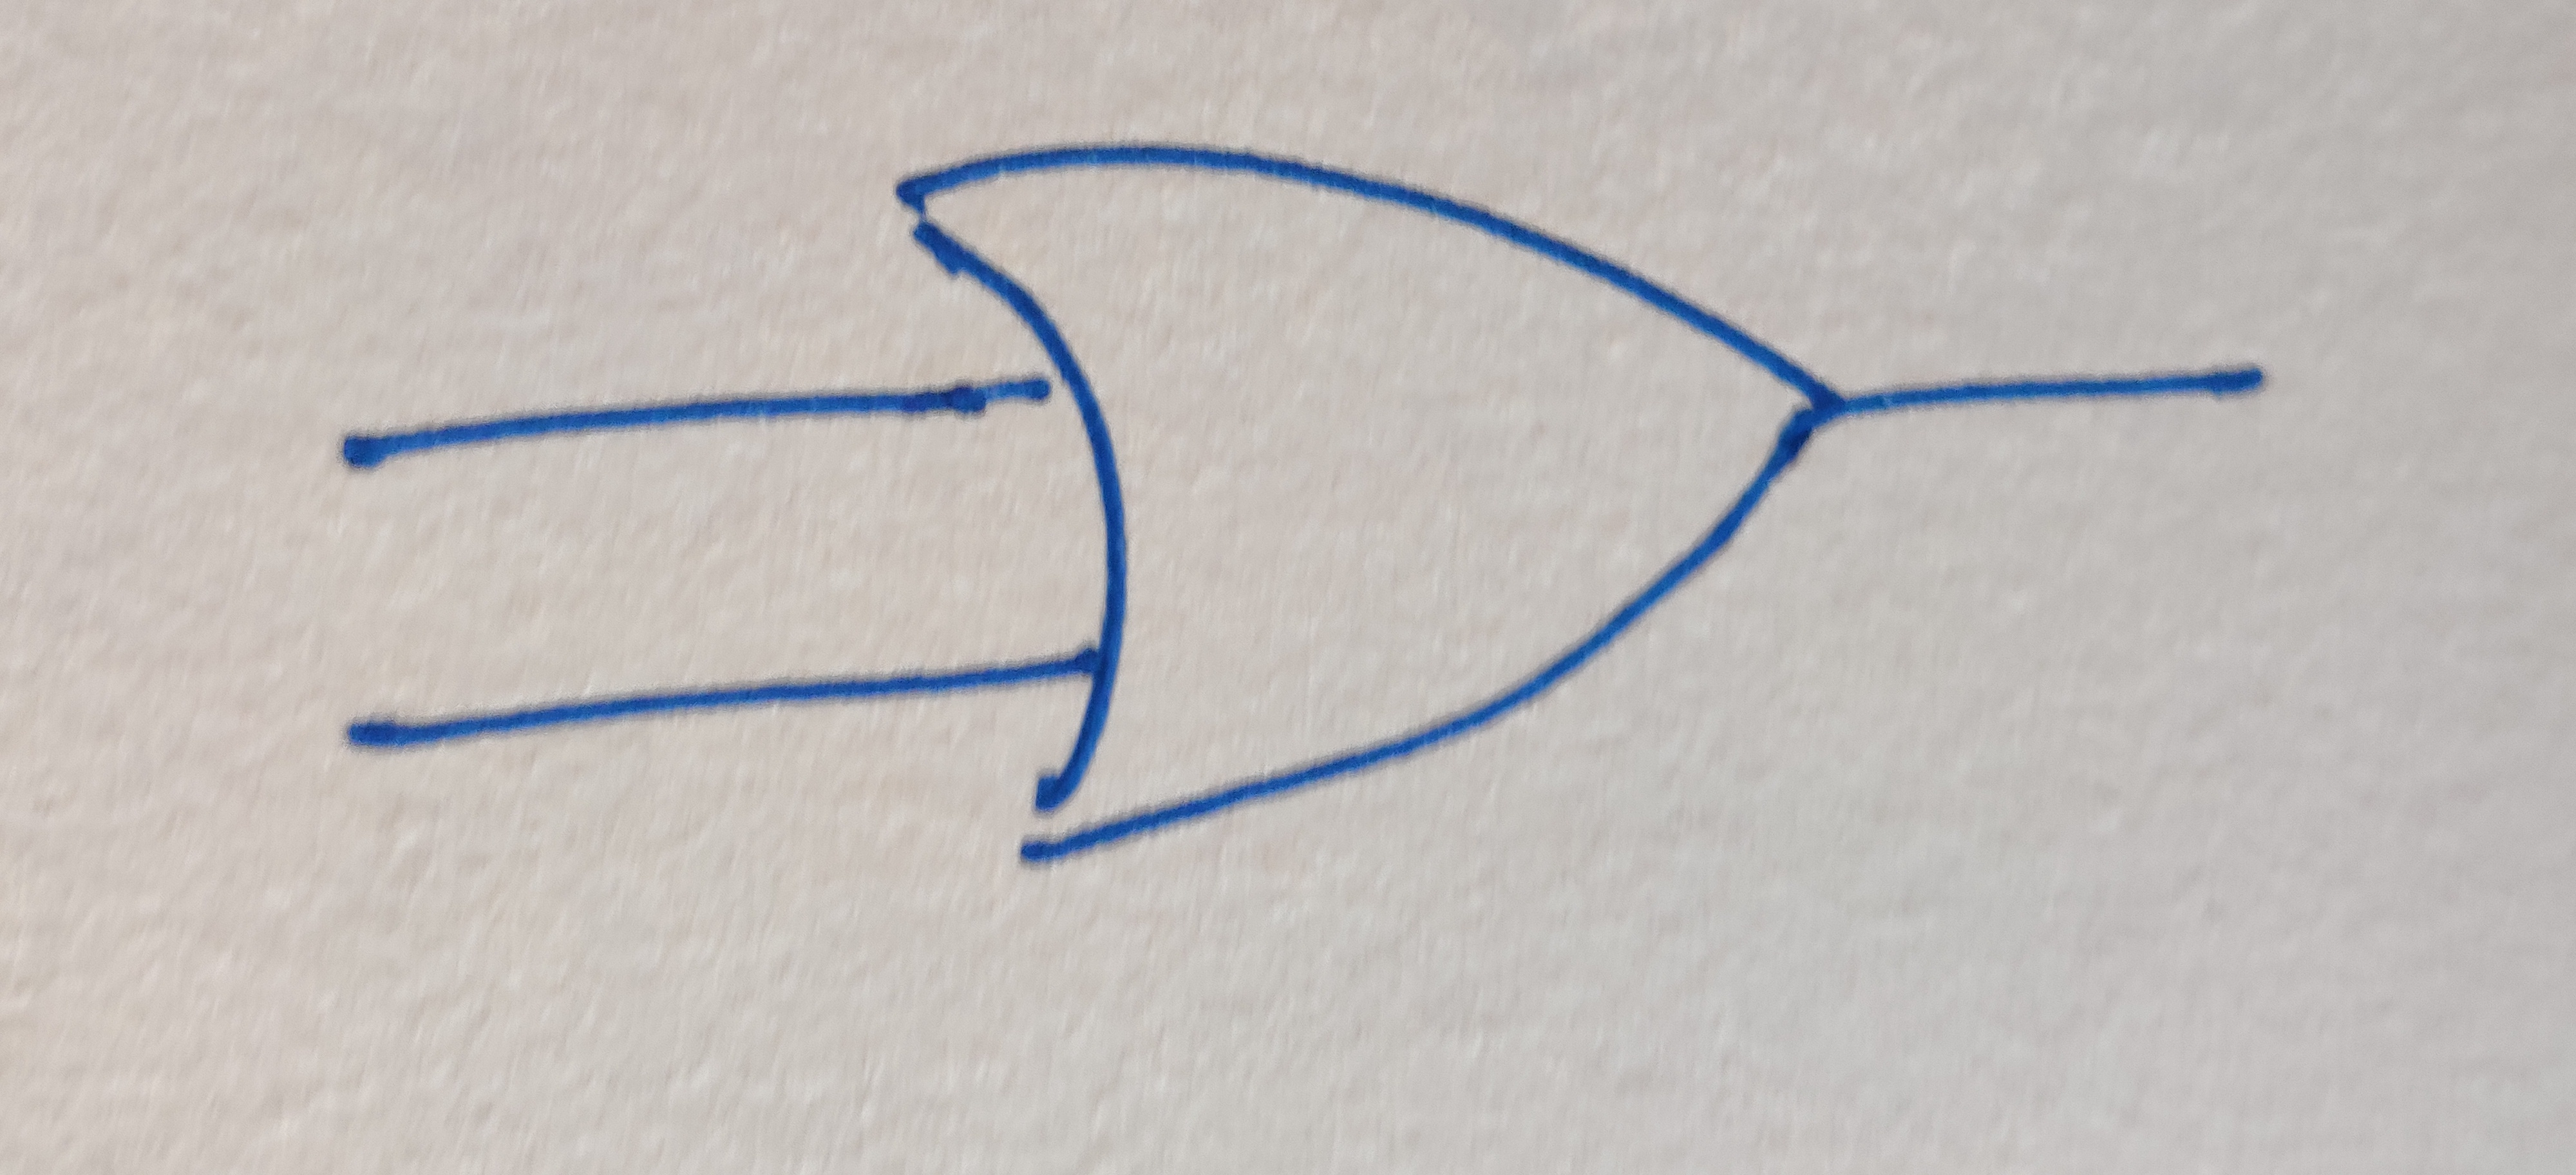or: (907, 145, 1830, 869)
